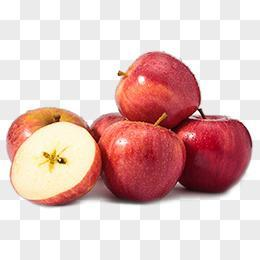apple: (10, 121, 103, 206), (97, 120, 185, 202), (114, 50, 202, 128), (172, 113, 252, 193), (6, 106, 90, 166)
